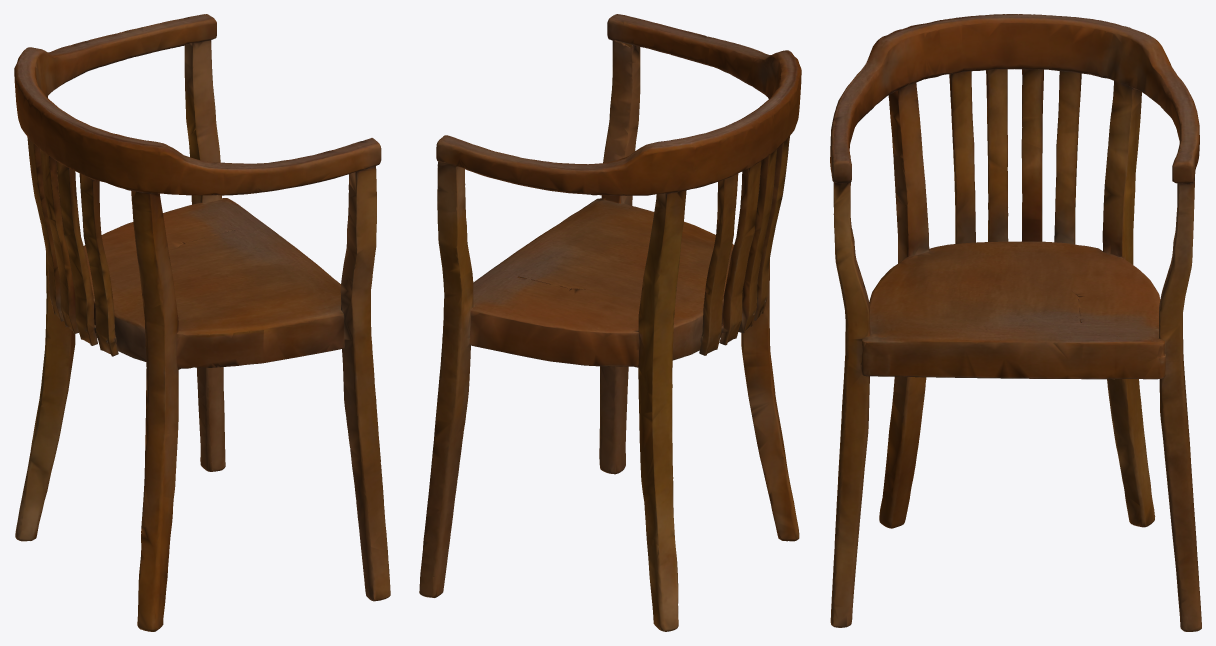
Rendered from slatted-walnut-chair.glb.
3 renders of one model, left to right at view 1: azimuth 30°, elevation 25°; view 2: azimuth 150°, elevation 25°; view 3: azimuth 270°, elevation 25°, orthographic.
Parts seen in each view (by area): view 1: world; view 2: world; view 3: world.
Part boxes in pixels (left/top/right/bottom): world: left=14, top=14, right=390, bottom=631; world: left=419, top=14, right=801, bottom=631; world: left=830, top=14, right=1201, bottom=631.
Bounding box in the file's own units: 0.5702 × 0.9948 × 0.6828.
1 material, 1 textured.
